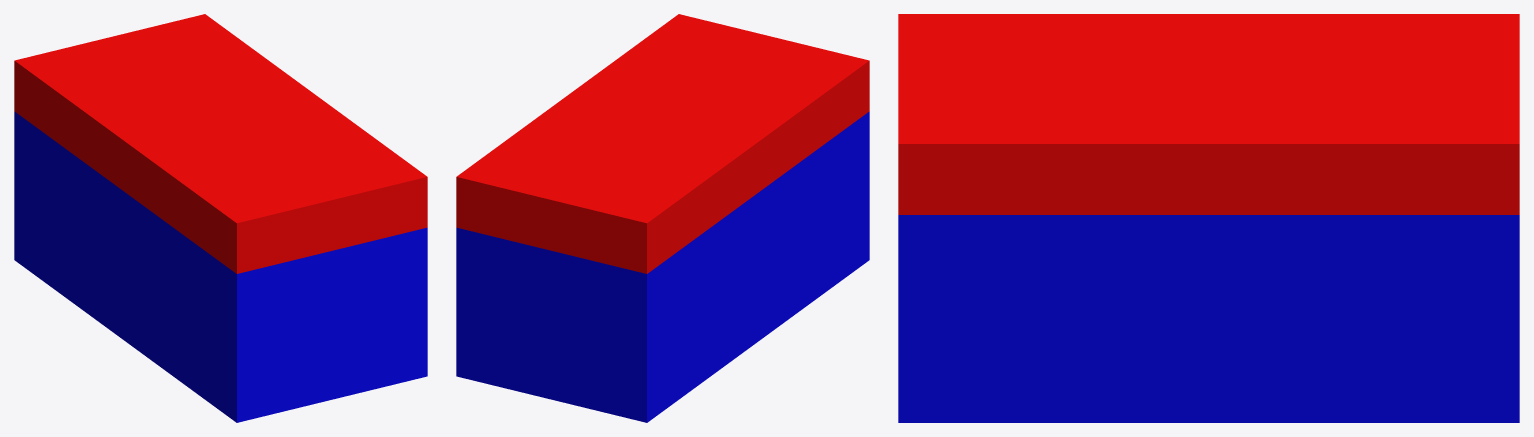
Rendered from VisioMatSmall.fbx.
3 renders of one model, left to right at view 1: azimuth 30°, elevation 25°; view 2: azimuth 150°, elevation 25°; view 3: azimuth 270°, elevation 25°, orthographic. The views are drawn at different scales.
Visible parts, largest first — view 1: Cube; view 2: Cube; view 3: Cube.
Part boxes in pixels (box(x1,y1,x2,y2)): Cube: box(14, 14, 427, 422); Cube: box(456, 14, 869, 422); Cube: box(898, 14, 1519, 422).
Size of the model in its own units: 50 by 50 by 101.
